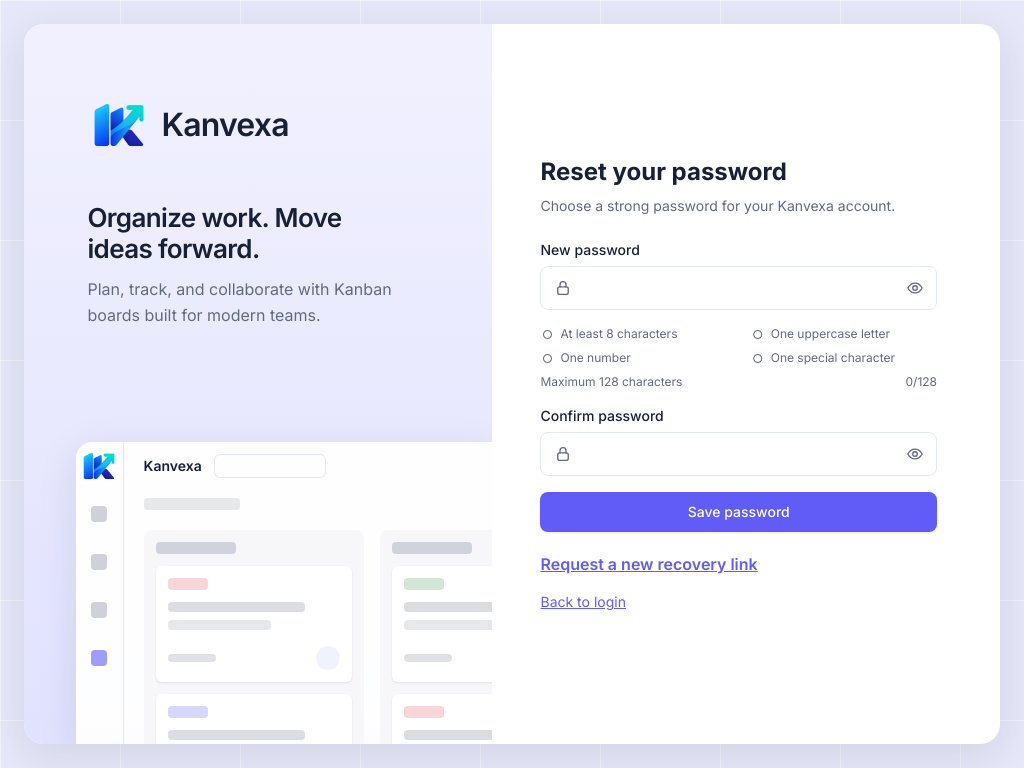
Test: password recovery routes › shows a safe expired/replayed error and recovery guidance without success
Type "NewPass123!" into the password field labelled "New password".
click(739, 288); type("NewPass123!")  # box [540,266,937,310]
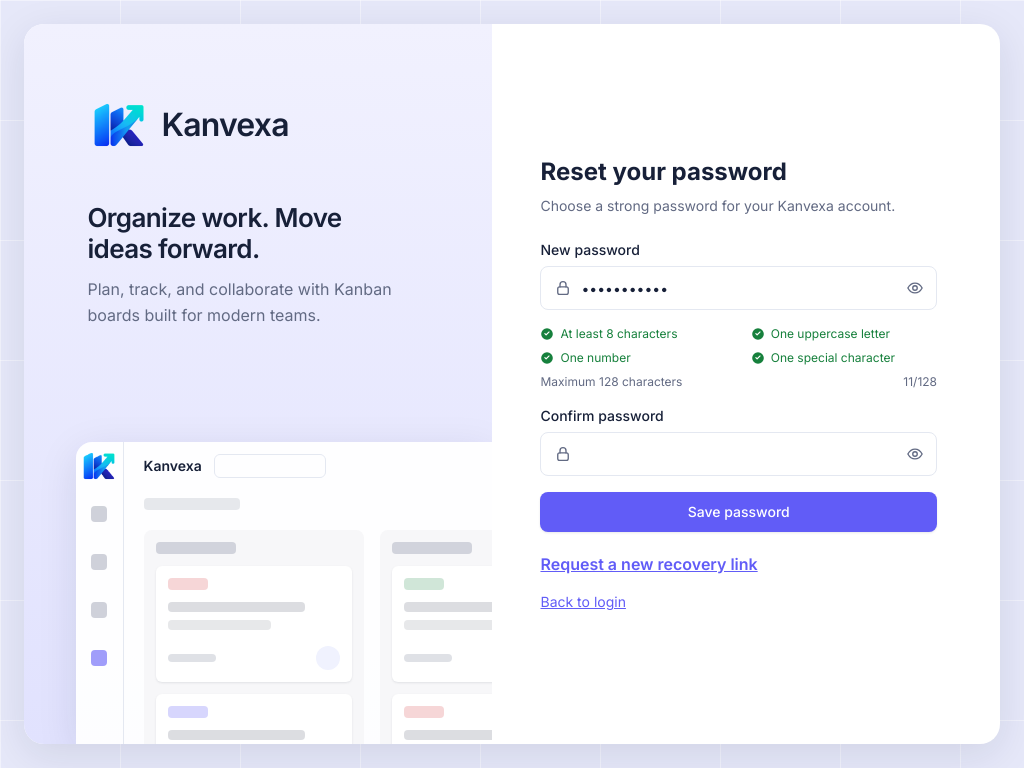
Type "NewPass123!" into the password field labelled "Confirm password".
click(739, 454); type("NewPass123!")  # box [540,432,937,476]
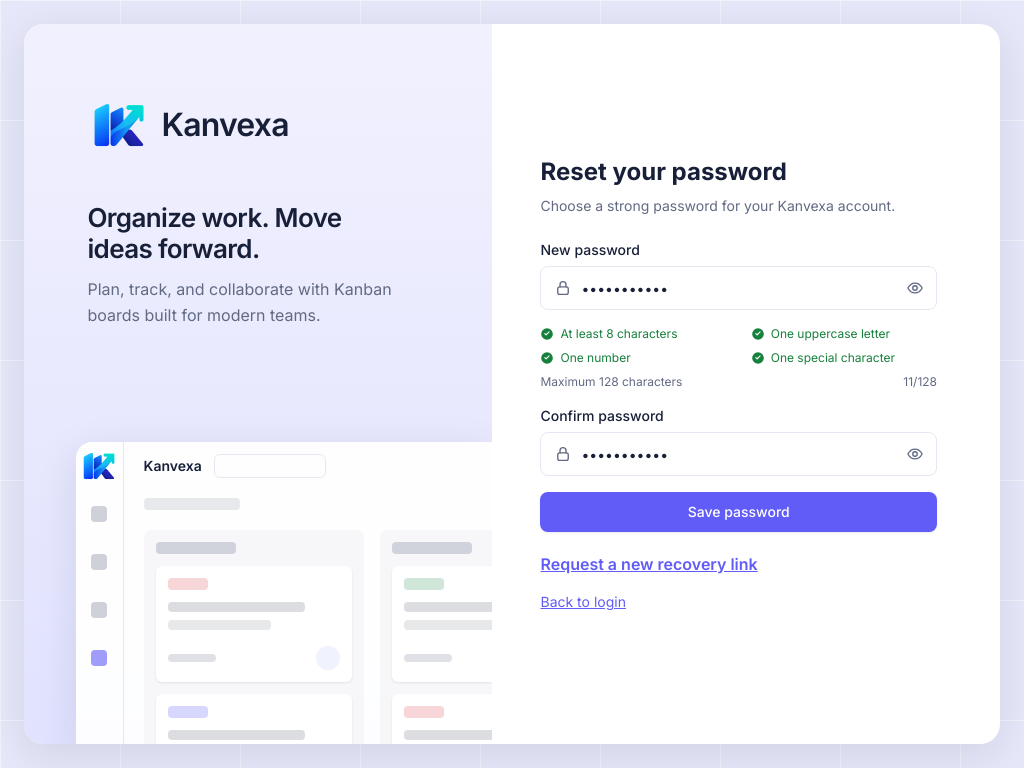
Click the button "Save password".
click(739, 512)  # box [540,492,937,532]
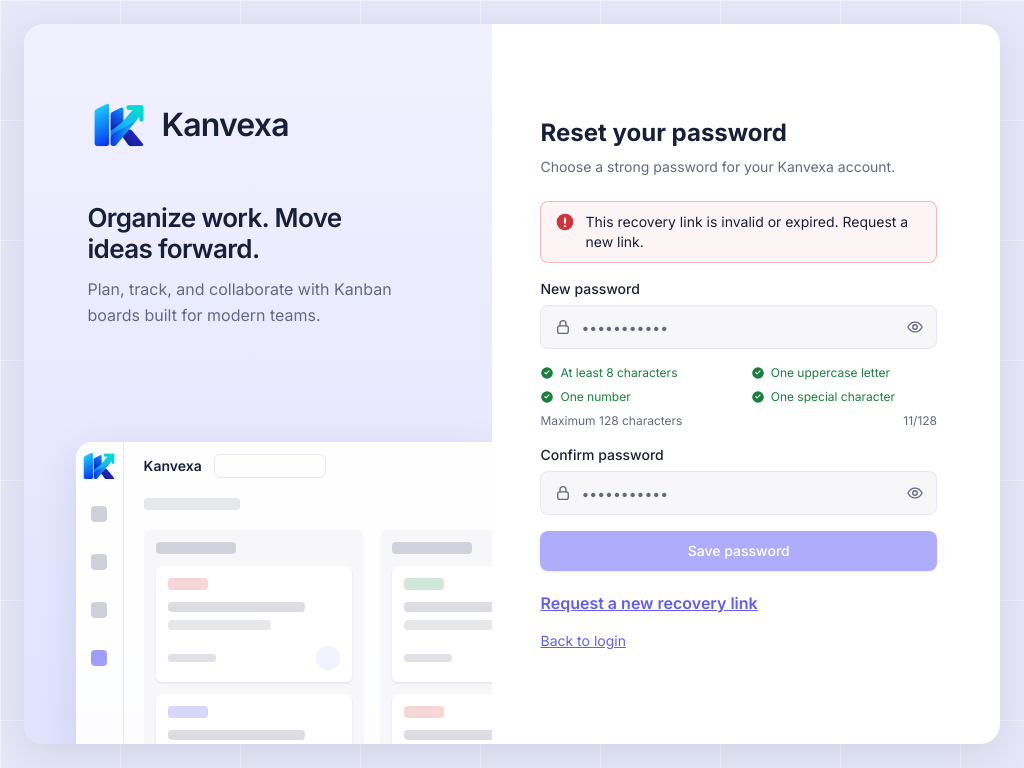
Check: the link "Request a new recovery link" is shown, box [540,593,758,613]
Check: the text "This recovery link is invalid or expired. Request a new link." is shown, box [586,212,922,252]
Check: the button "Save password" is disabled, box [540,531,937,571]
